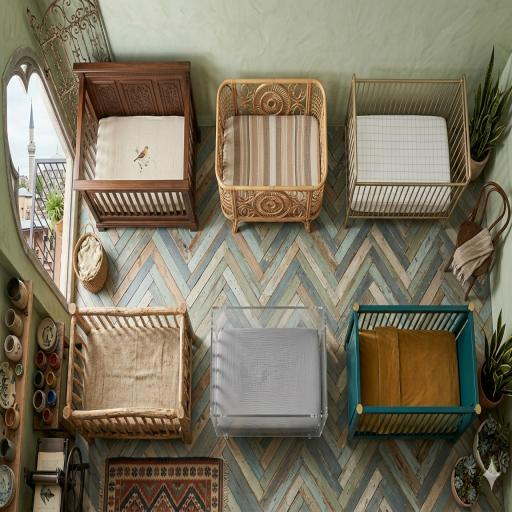crib: (74, 62, 200, 230), (344, 75, 470, 226), (345, 303, 481, 442), (63, 304, 194, 442), (216, 79, 327, 232), (211, 306, 327, 437)
